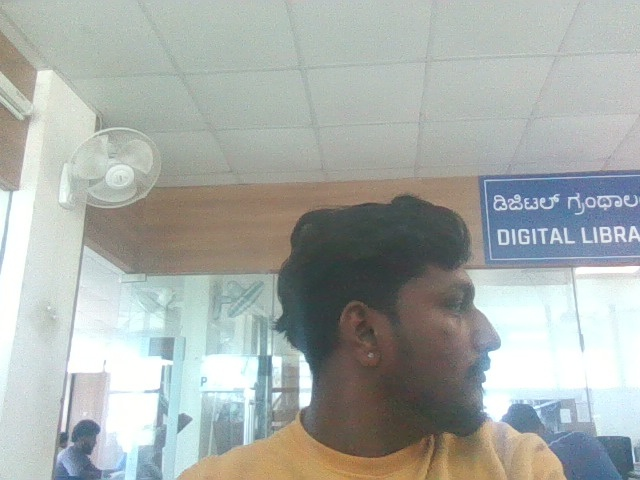real: (353, 191, 505, 406)
